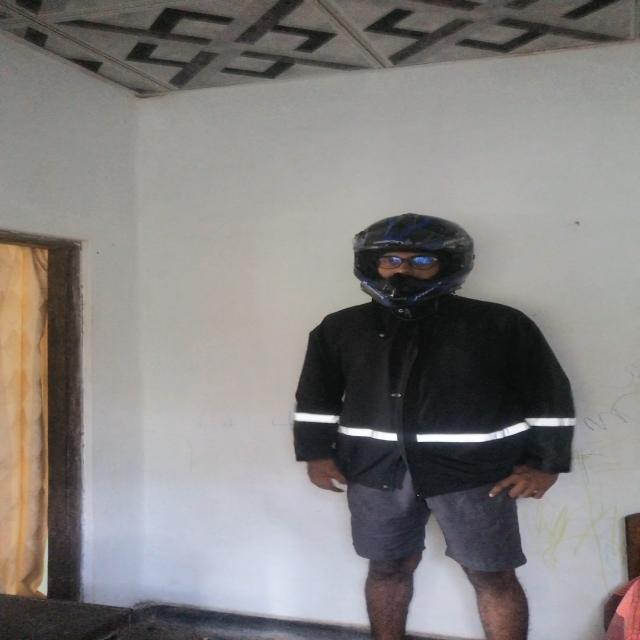Helmet_Wearer: (344, 220, 490, 317)
Jacket_Wearer: (300, 299, 581, 487)
Person: (275, 217, 586, 640)
